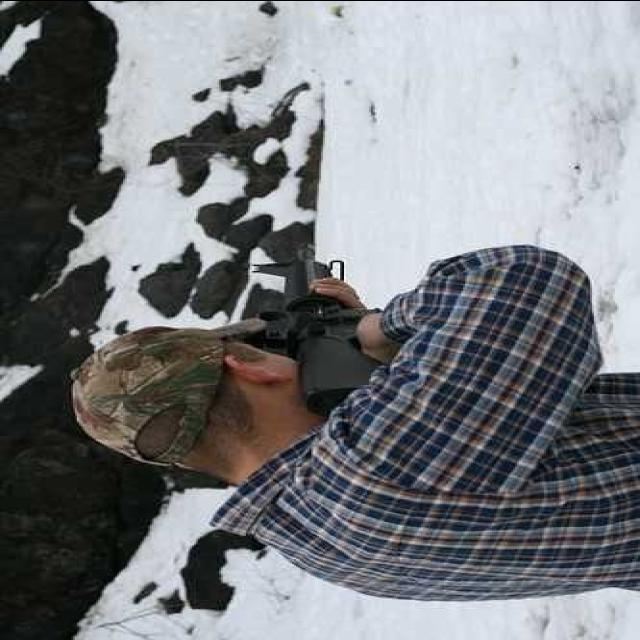heavyweapon: (224, 209, 422, 411)
